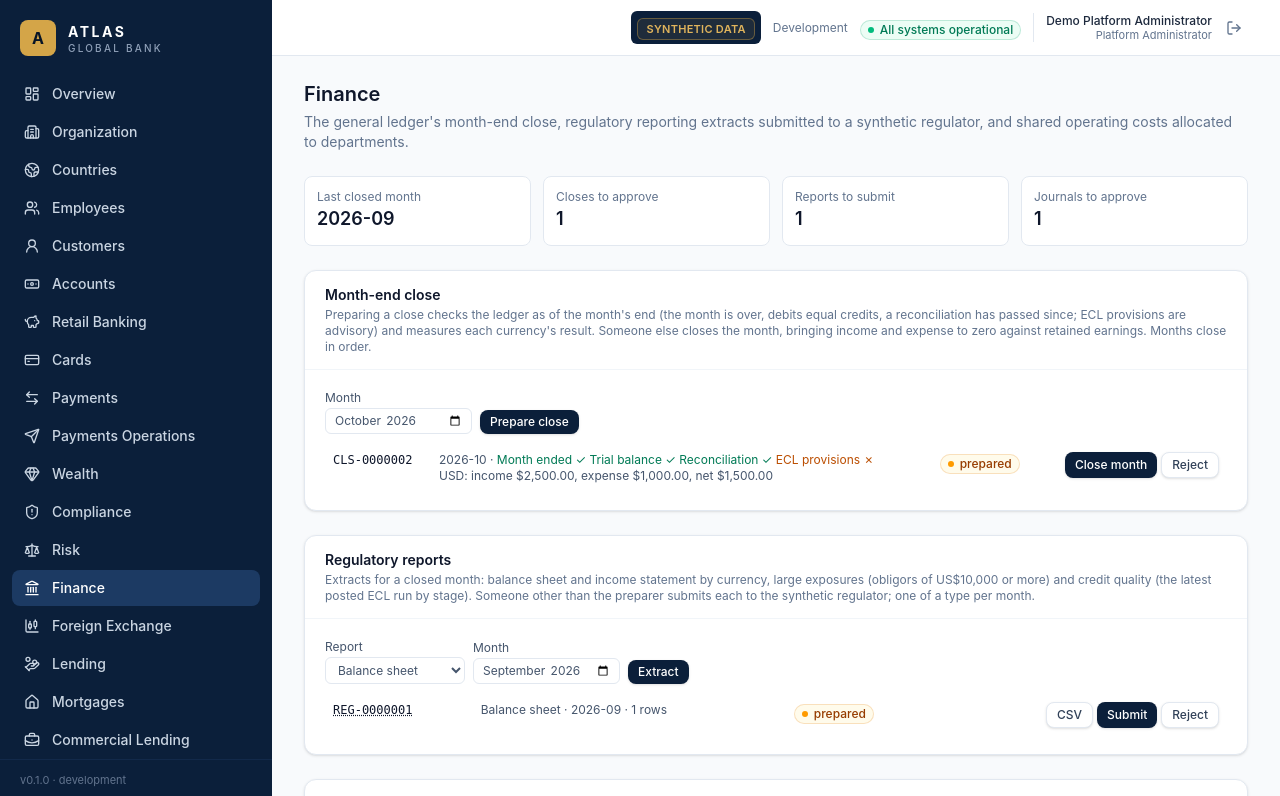
Test case: Finance page › shows the summary, closes with their checks and results, reports and allocations
Expected: the table named "Closes" shows "USD: income $2,500.00, expense $1,000.00, net $1,500.00", [325,446,1227,490]
Expected: the field named "Close month" holds "2026-10", [325,408,472,434]
Click the button with aria-label "Rows of REG-0000001" at (373, 710), box [333,702,412,718]
(page scrolled)
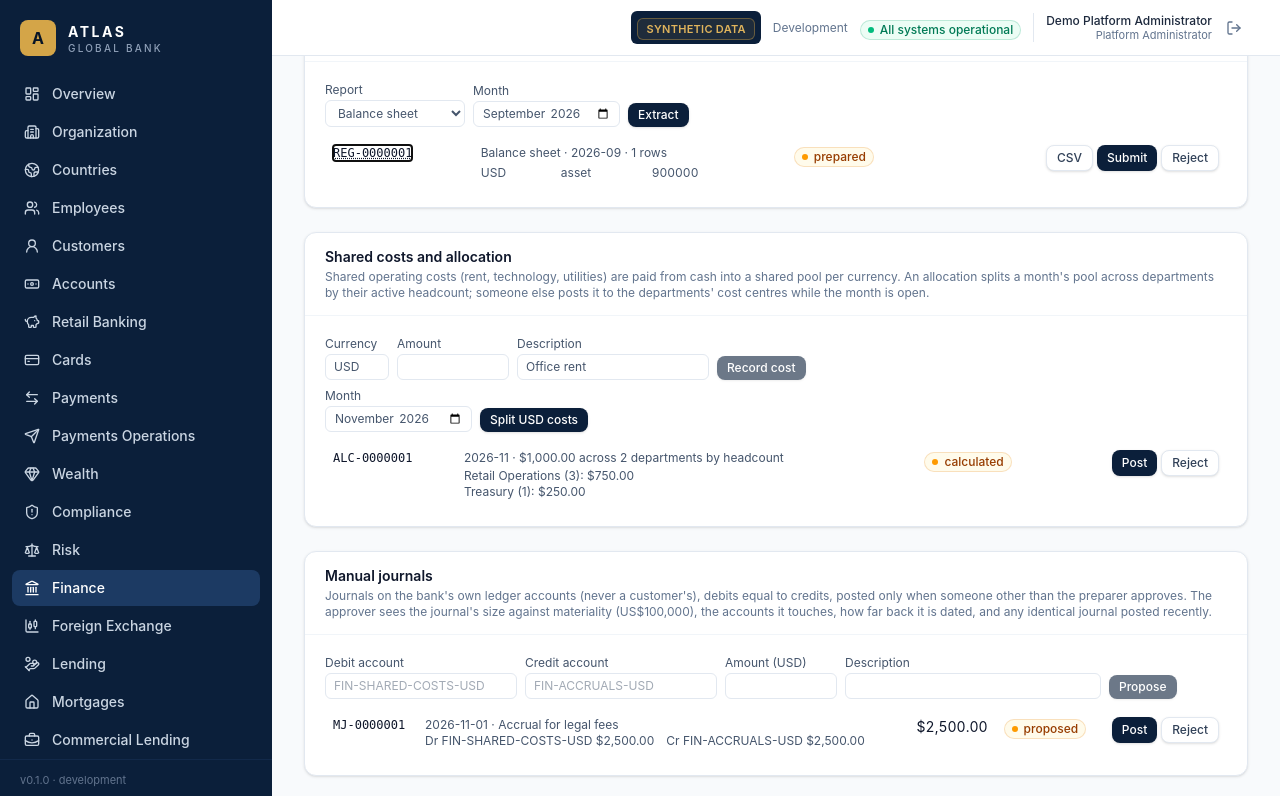
Expected: the table named "Report rows" reads "USD asset 900000", [481,165,778,181]
Expected: the table named "Allocations" shows "$1,000.00 across 2 departments by headcount", [325,444,1227,506]
Expected: the table named "Allocations" shows "Retail Operations (3): $750.00", [325,444,1227,506]
